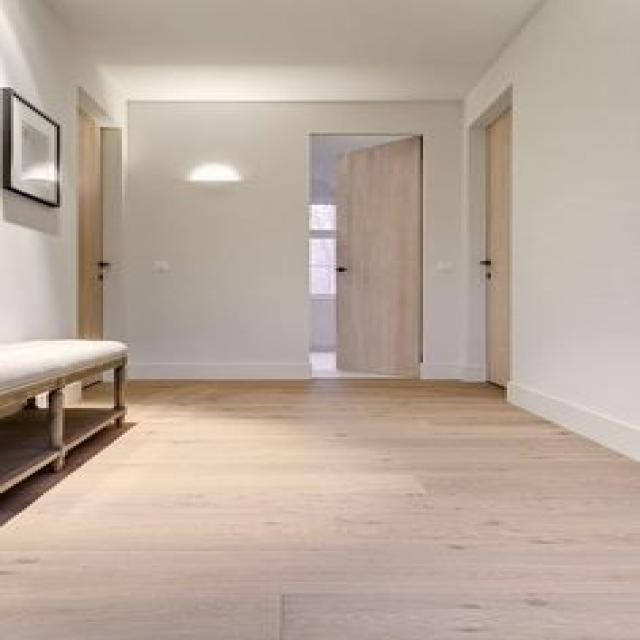door: (334, 134, 421, 377)
